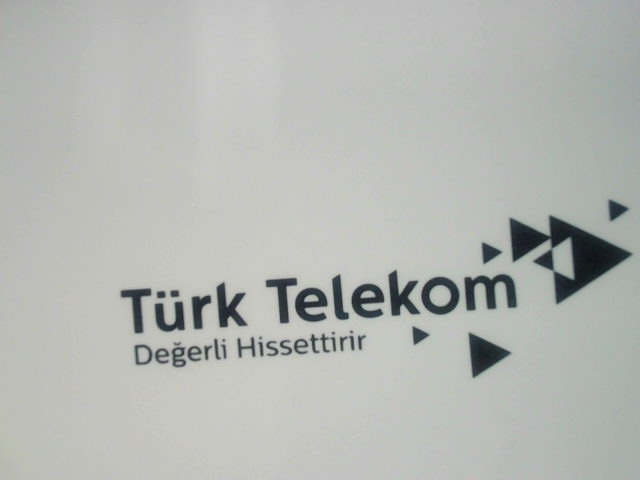AQ_TURKTelekom: (101, 192, 635, 392)
